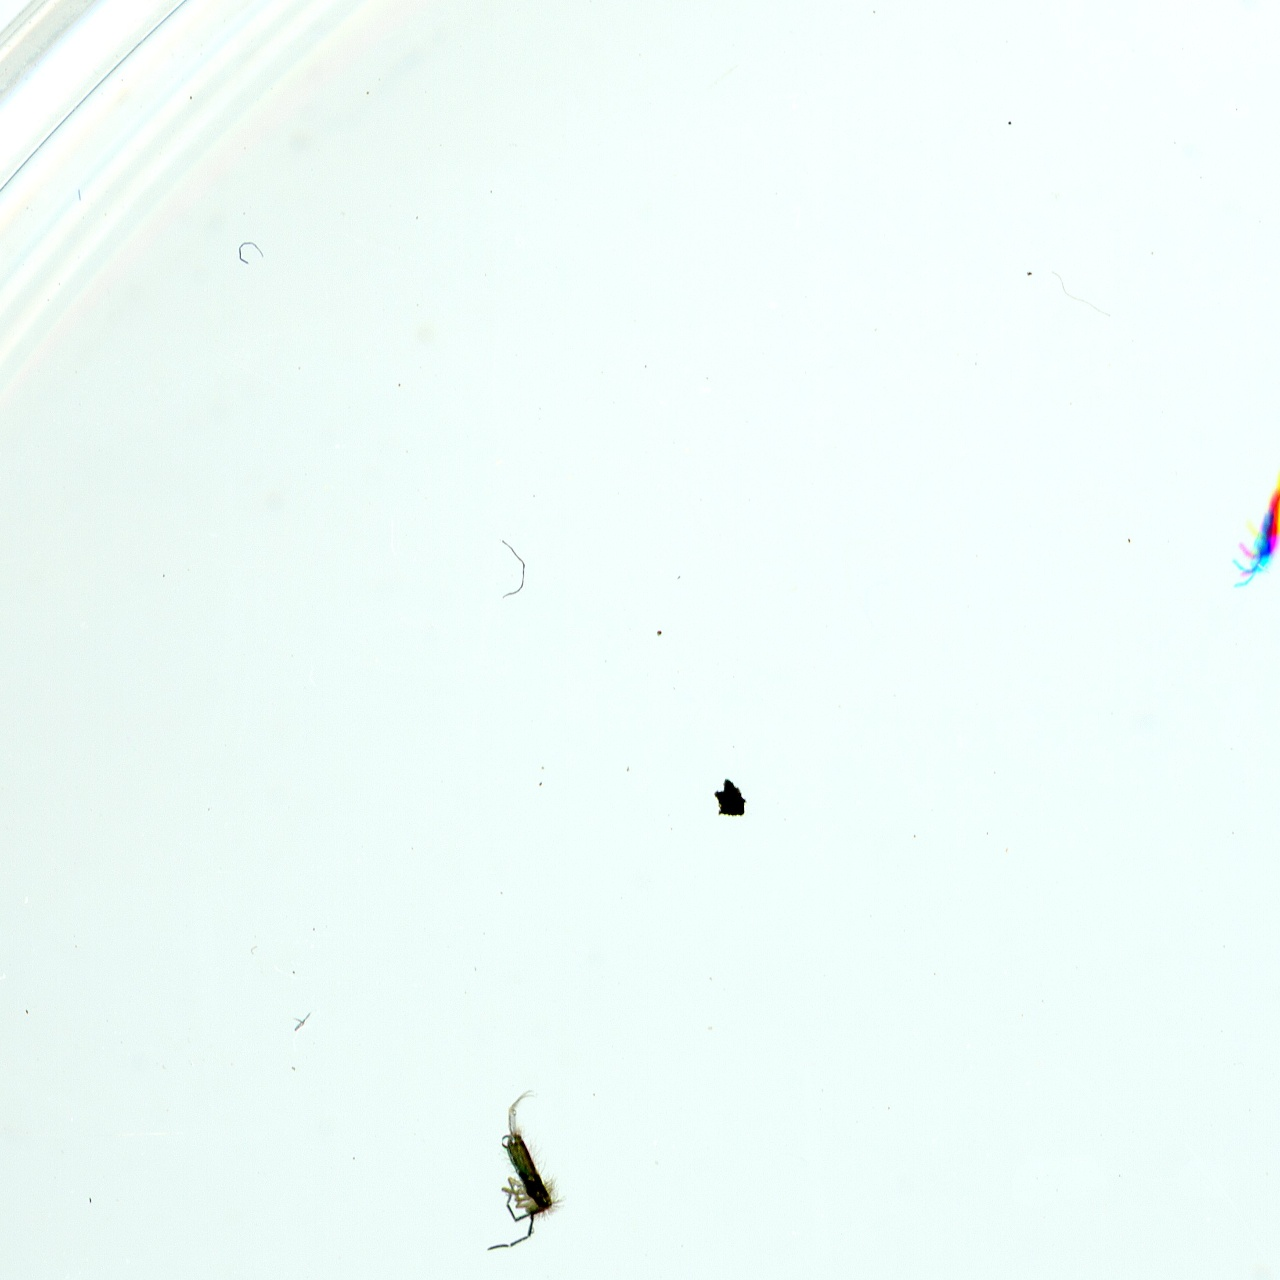arthropod: (428, 1081, 599, 1267), (1210, 423, 1280, 610)
